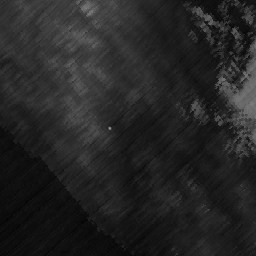Target: (106, 125, 112, 131)
